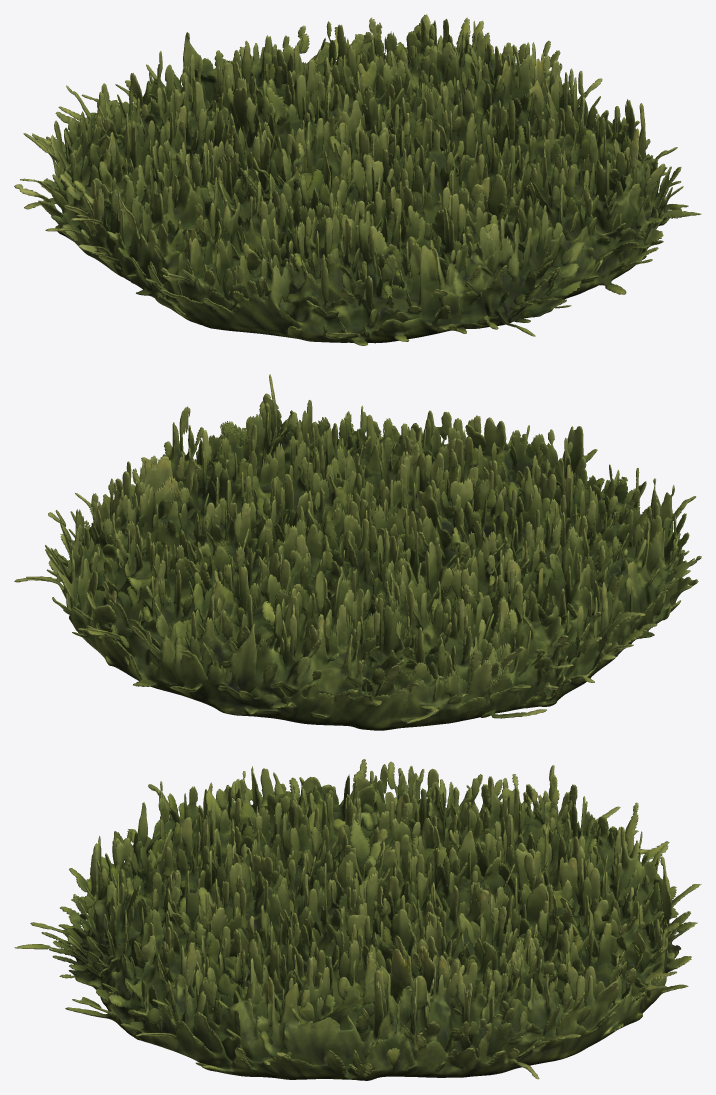
3 renders of one model, top to bottom at view 1: azimuth 30°, elevation 25°; view 2: azimuth 150°, elevation 25°; view 3: azimuth 270°, elevation 25°, orthographic.
Parts seen in each view (by area): view 1: tripo_node_a9833650-4c94-4480-8df5-6f999bbf583d; view 2: tripo_node_a9833650-4c94-4480-8df5-6f999bbf583d; view 3: tripo_node_a9833650-4c94-4480-8df5-6f999bbf583d.
Part boxes in pixels (box(x1,y1,x2,y2)): tripo_node_a9833650-4c94-4480-8df5-6f999bbf583d: box(14, 14, 701, 345); tripo_node_a9833650-4c94-4480-8df5-6f999bbf583d: box(14, 374, 701, 730); tripo_node_a9833650-4c94-4480-8df5-6f999bbf583d: box(14, 759, 701, 1080).
Size of the model in its own units: 0.9355 by 0.1826 by 1.
Materials: 1 (1 with a texture image).
